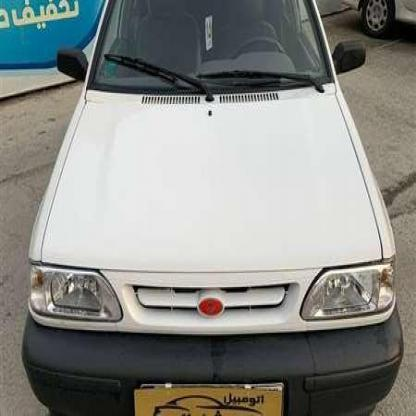Car: (24, 0, 407, 416), (329, 0, 416, 31)
